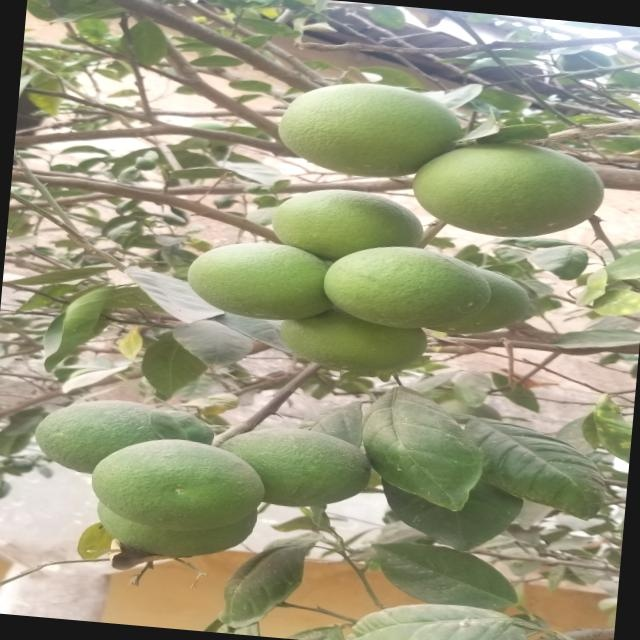agrume: (407, 134, 613, 243), (284, 80, 464, 188), (90, 430, 266, 535), (257, 183, 455, 270), (219, 423, 382, 517), (182, 232, 333, 332), (330, 236, 467, 333), (36, 393, 172, 479), (289, 316, 427, 380), (102, 511, 227, 569), (476, 259, 535, 341), (168, 397, 218, 452)
